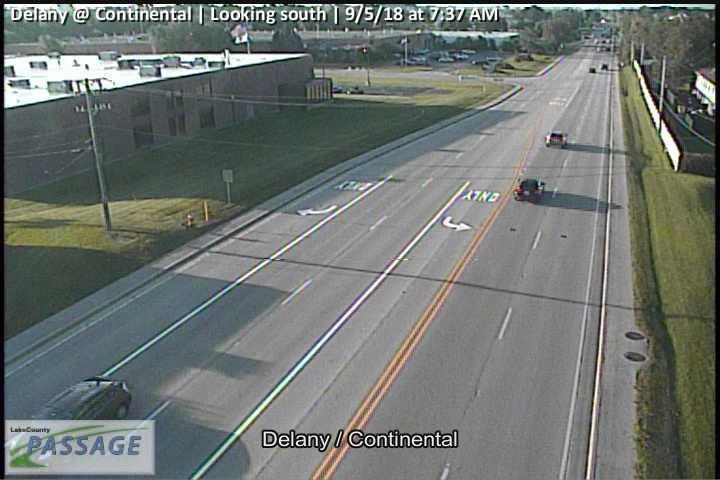SUV: (26, 375, 131, 428), (515, 178, 545, 203), (545, 131, 568, 148)
